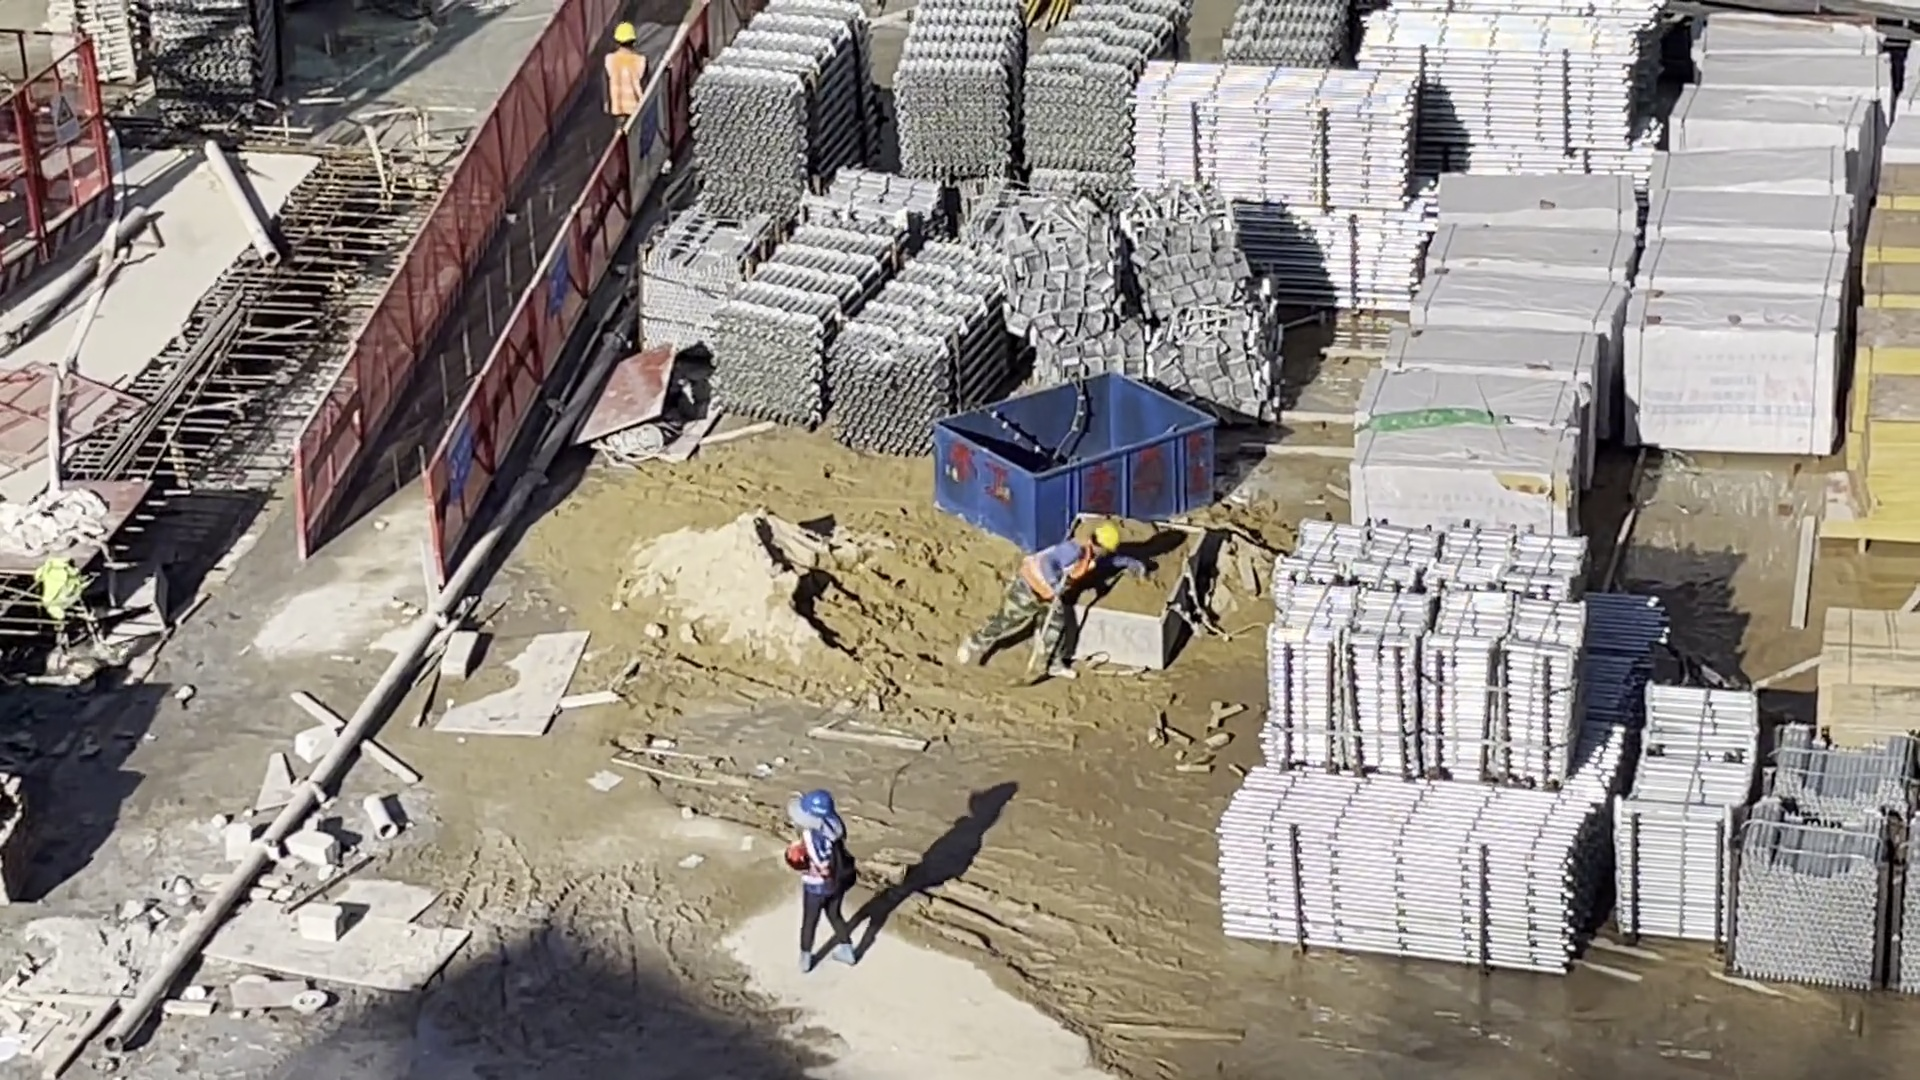board: (1854, 164, 1913, 550), (1827, 601, 1917, 737)
fence: (308, 7, 693, 557)
helmet: (800, 790, 837, 819), (1094, 525, 1122, 551), (615, 22, 634, 43)
hopper: (933, 369, 1209, 550), (1055, 511, 1205, 666)
person: (983, 523, 1115, 677), (793, 793, 859, 972), (604, 27, 650, 129)
scaffold: (1271, 523, 1589, 783), (1219, 770, 1602, 969), (1135, 57, 1425, 299), (708, 226, 1016, 434), (896, 3, 1189, 187), (1731, 734, 1920, 986), (1365, 12, 1648, 146), (694, 3, 863, 216), (1615, 683, 1759, 927), (152, 1, 273, 119), (50, 1, 154, 88), (1228, 1, 1358, 69)
slogan: (444, 424, 474, 506), (546, 247, 571, 315)
vest: (1023, 539, 1092, 599), (805, 829, 846, 893), (606, 51, 646, 115)
